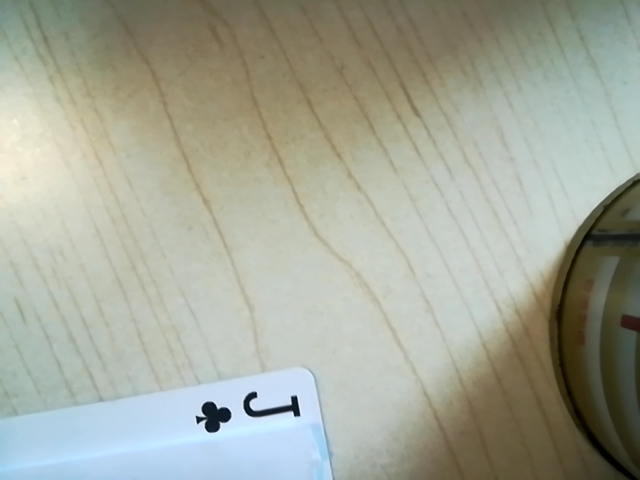mh j: (179, 379, 317, 437)
